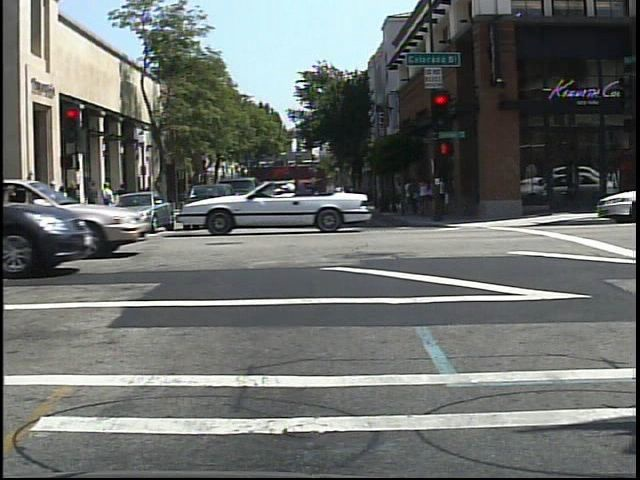person: (98, 179, 116, 225)
